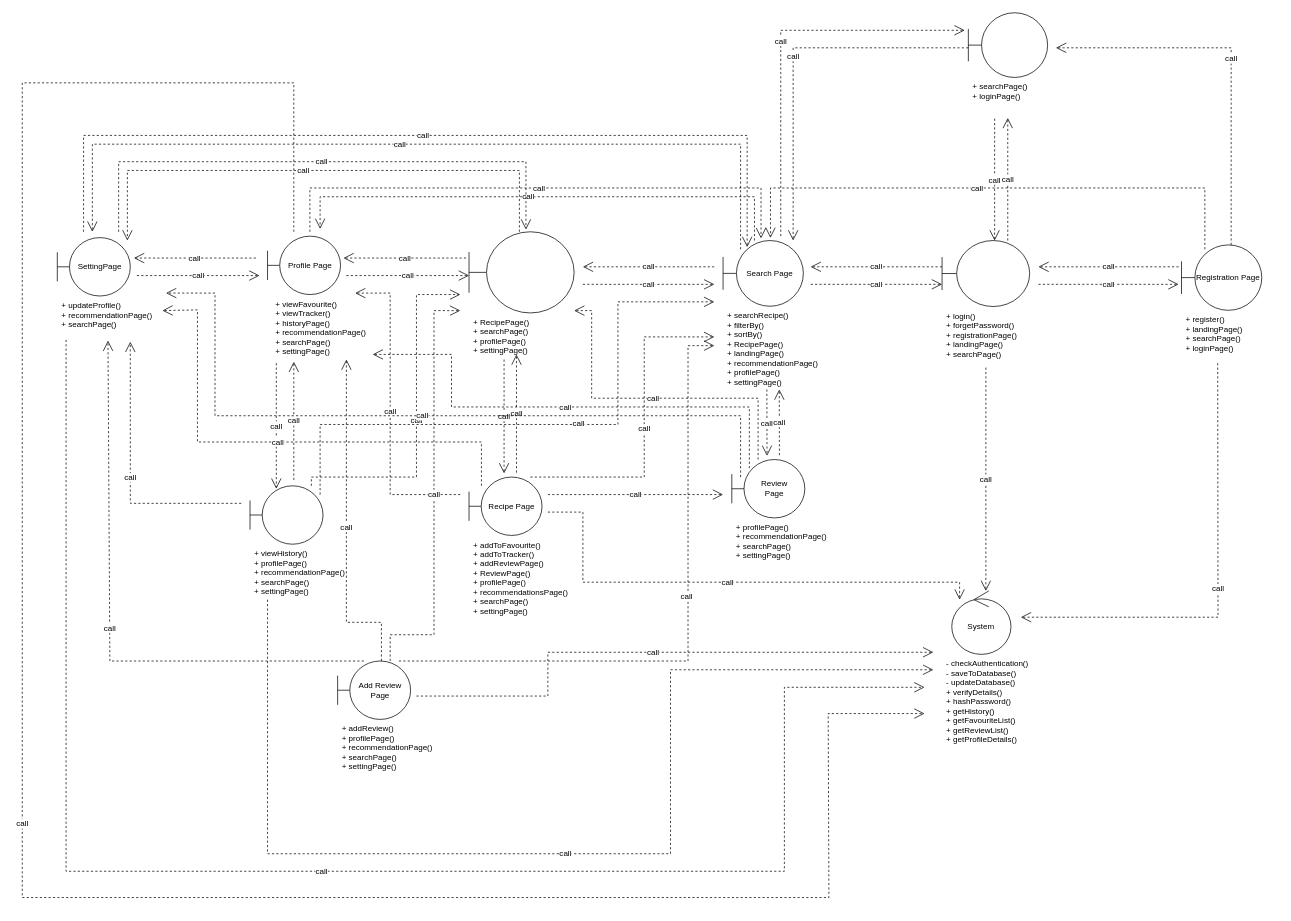
Image size: 1291x921. Some labels were removed from this diagram. The shapes that lost their labels are listed below. From the top down, each one's centre as x and y in pixels, then its label:
At (1008,44): "Landing Page".
At (521,272): "Recommendations Page".
At (985,273): "Login Page".
At (286,514): "History Page".
